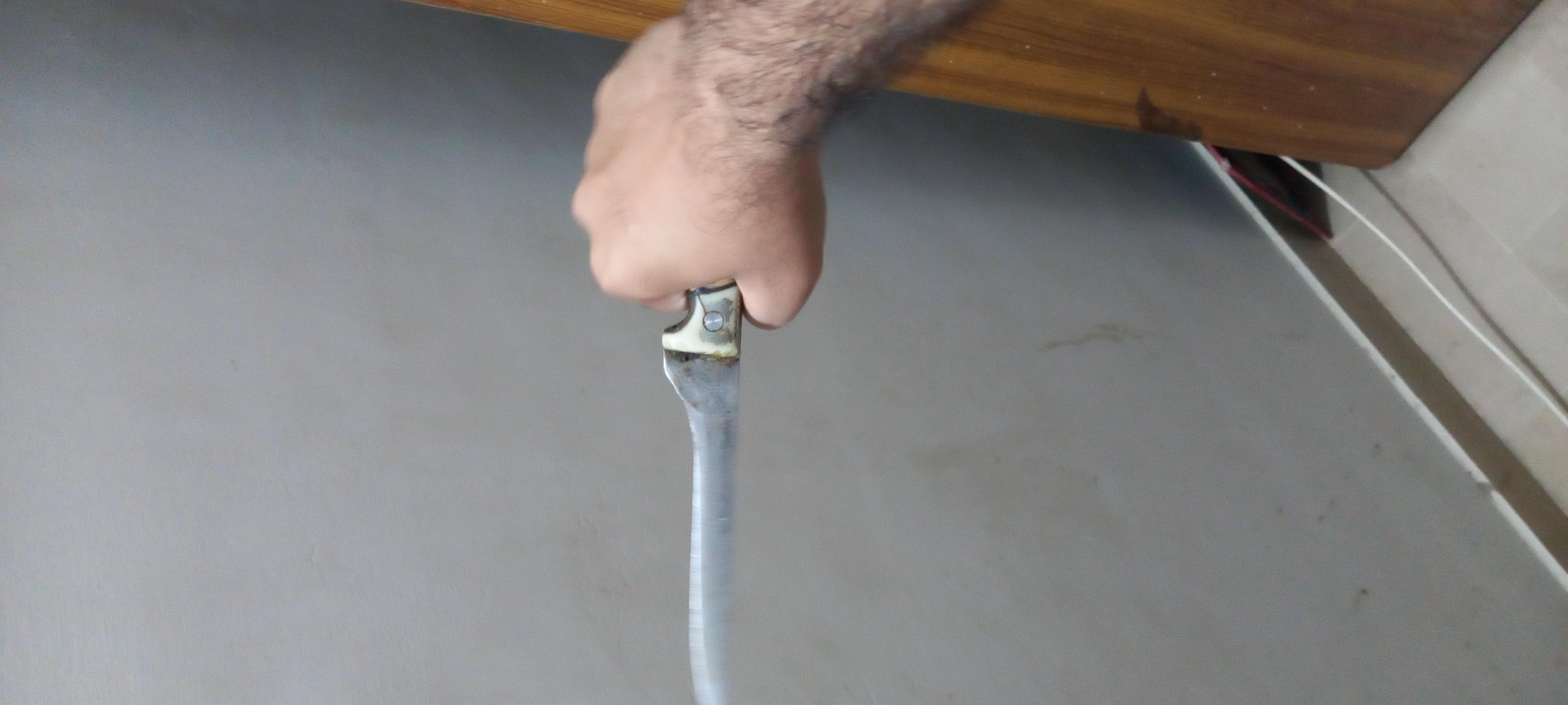knives: (1, 293, 1053, 335)
